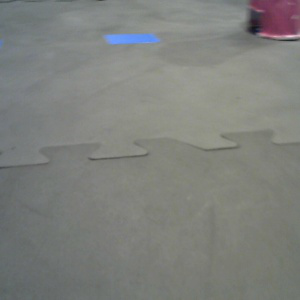Right: (244, 1, 300, 39)
